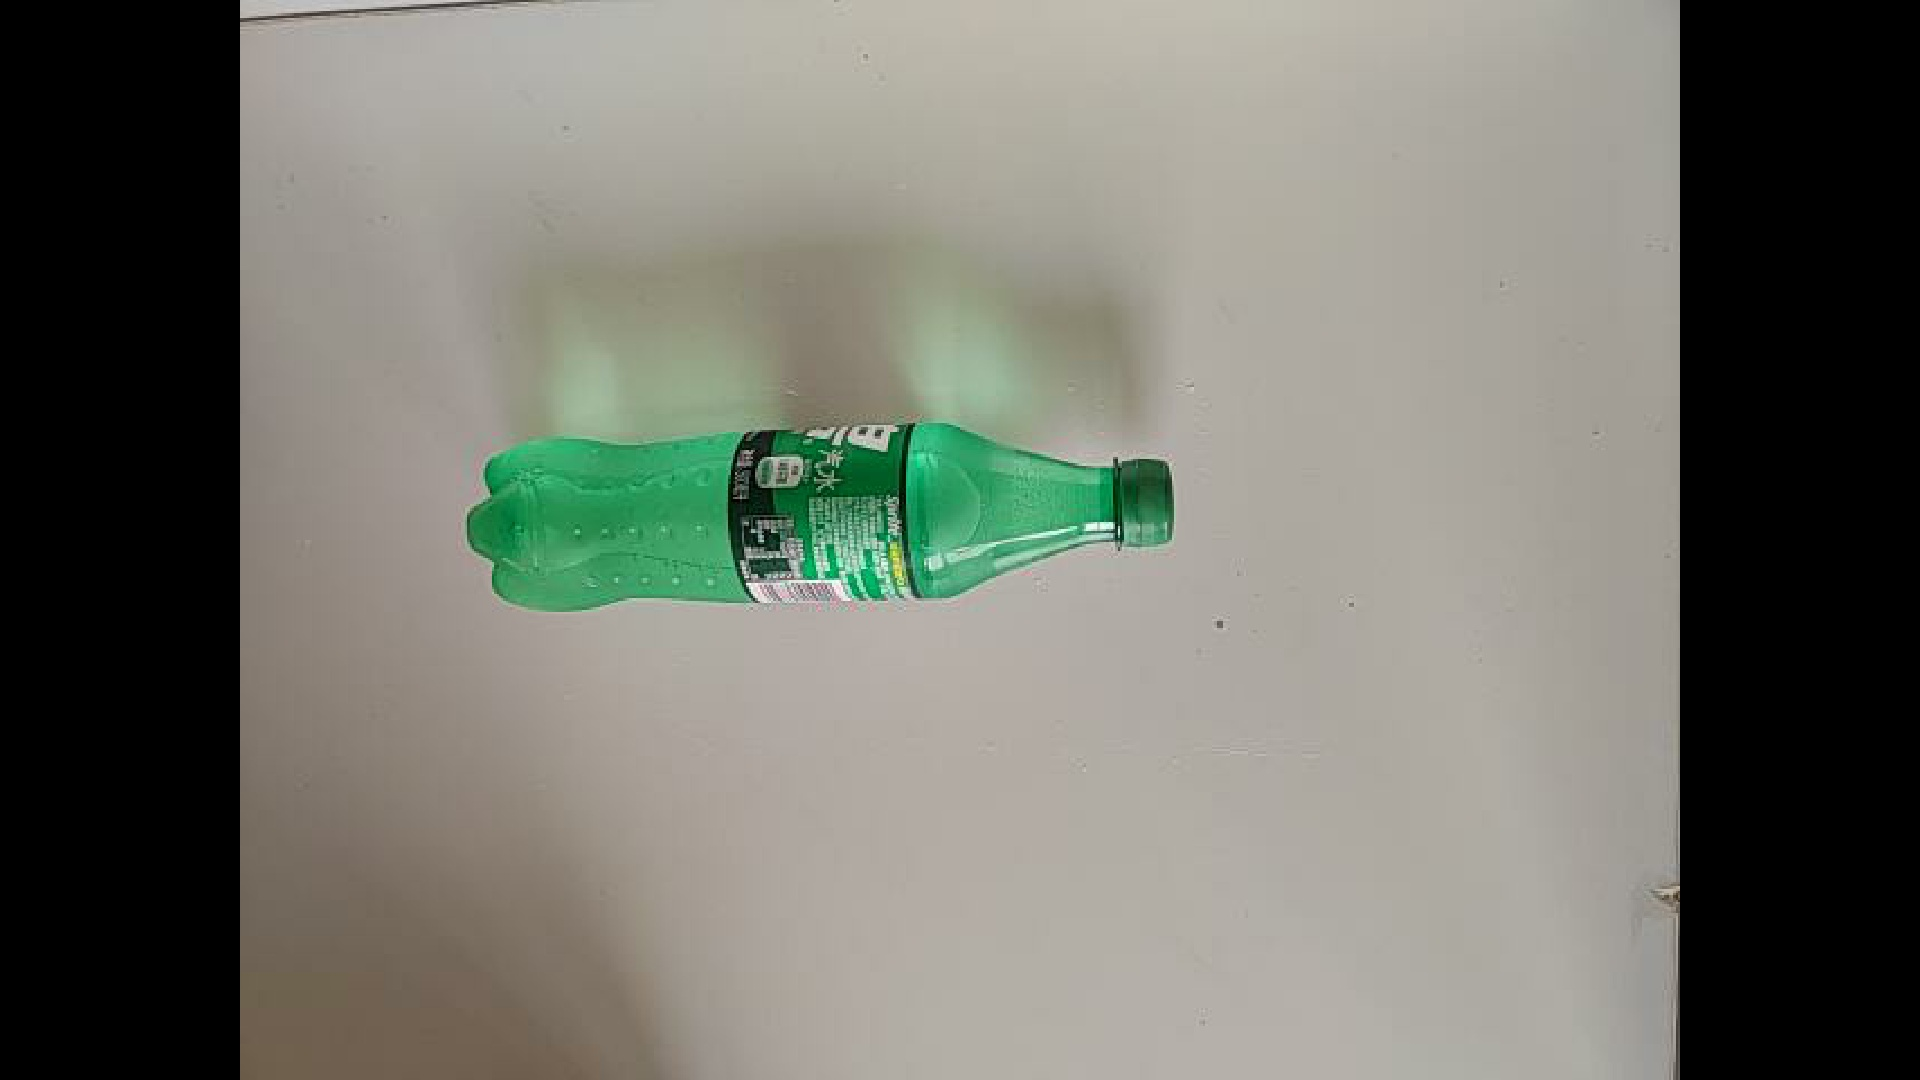sprite: (463, 422, 1180, 616)
